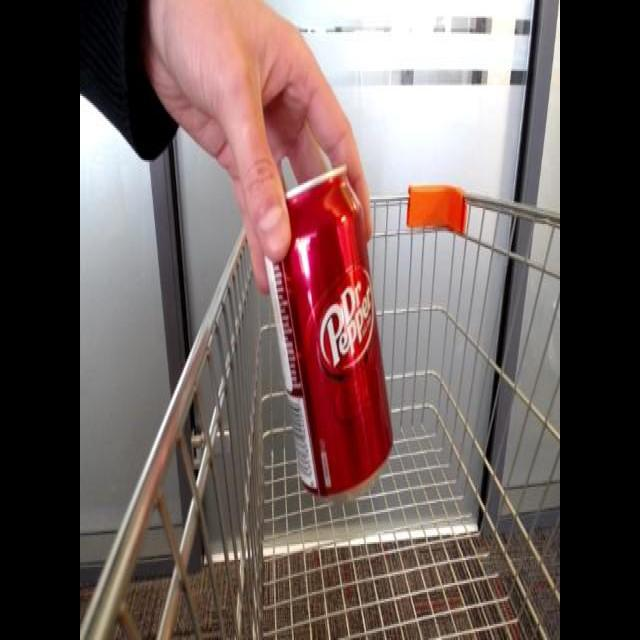Dr Pepper: (259, 160, 402, 498)
